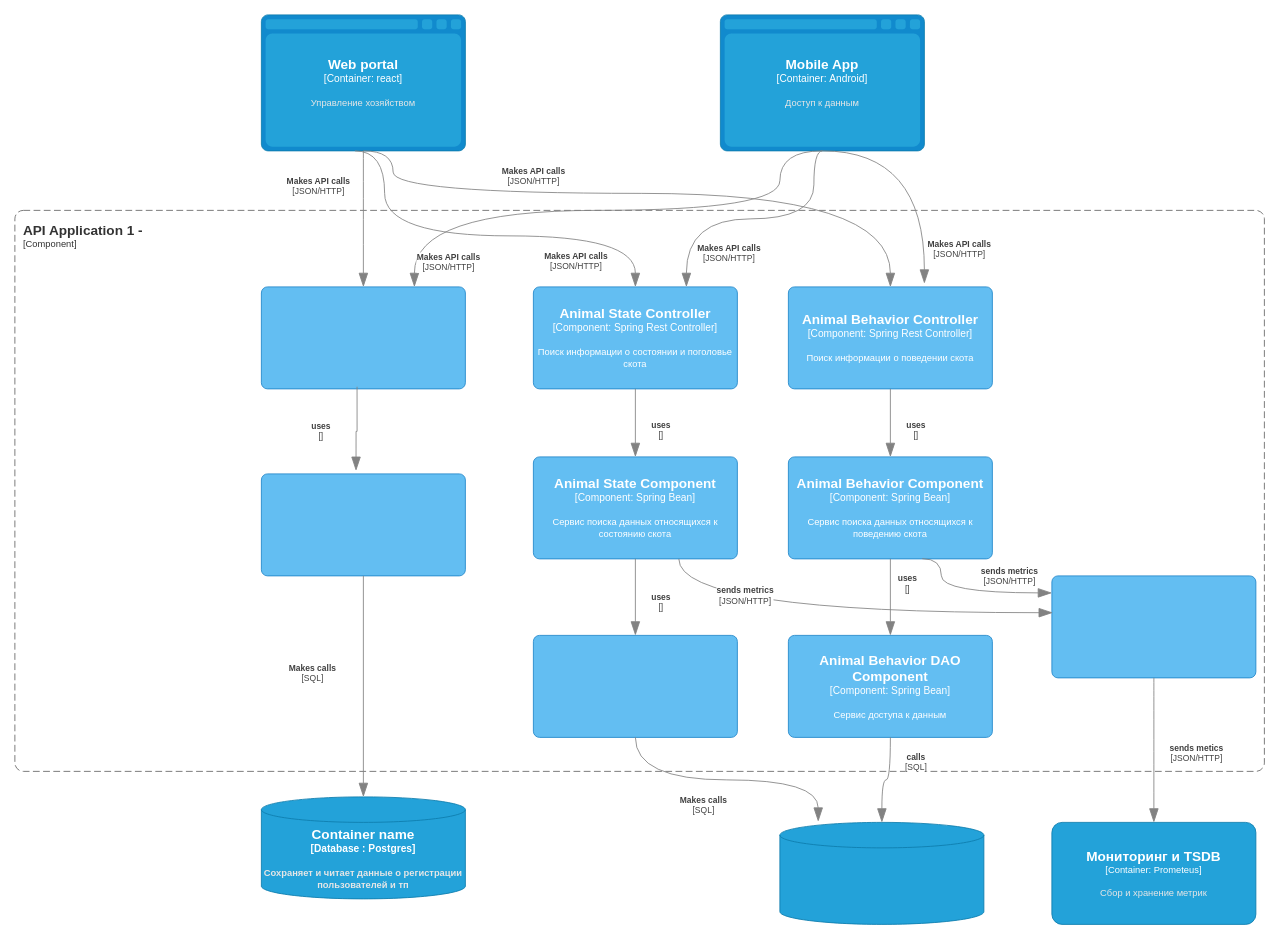
Image size: 1279x939. Some labels were removed from this diagram. Each missing label, with the centre of its shape:
Actuator Component [Component: Spring Bean] Сервис регистрации метрик: the point at 1153,626
Animal State DAO Component [Component: Spring Bean] Сервис доступа к данным: the point at 635,686
Data Warehouse [Container: Clickhouse] Структурированные данные: the point at 881,873
Security Component [Component: Spring Bean] Сервис регистрации пользователей: the point at 363,524
Sign In Controller [Component: Spring Rest Controller] Регистрация пользователей: the point at 363,337
